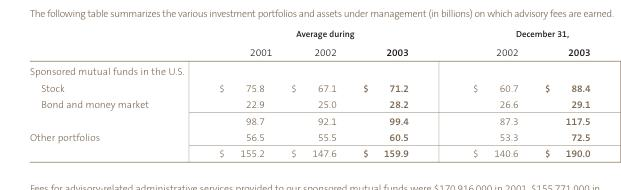table: (28, 28, 589, 159)
table column: (28, 28, 183, 159), (183, 28, 280, 159), (348, 28, 439, 159), (439, 28, 530, 159), (280, 28, 348, 159), (530, 28, 589, 159)
table column header: (28, 28, 589, 62)
table projected row header: (28, 62, 589, 79)
table row: (28, 42, 589, 62), (28, 62, 589, 79), (28, 79, 589, 96), (28, 128, 589, 145), (28, 96, 589, 112), (28, 112, 589, 128), (28, 28, 589, 42), (28, 145, 589, 159)
table spanning cell: (183, 28, 439, 42), (439, 28, 589, 42)
